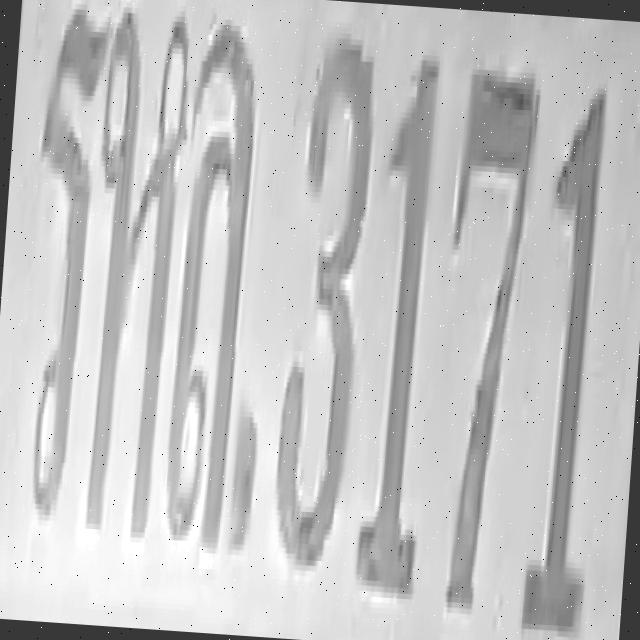1: (358, 33, 447, 574), (522, 74, 608, 620), (358, 44, 442, 574)
3: (269, 25, 379, 567)
44RorRuea: (14, 0, 109, 514)
50HorHeep: (75, 1, 195, 534)
7: (426, 60, 541, 608)
